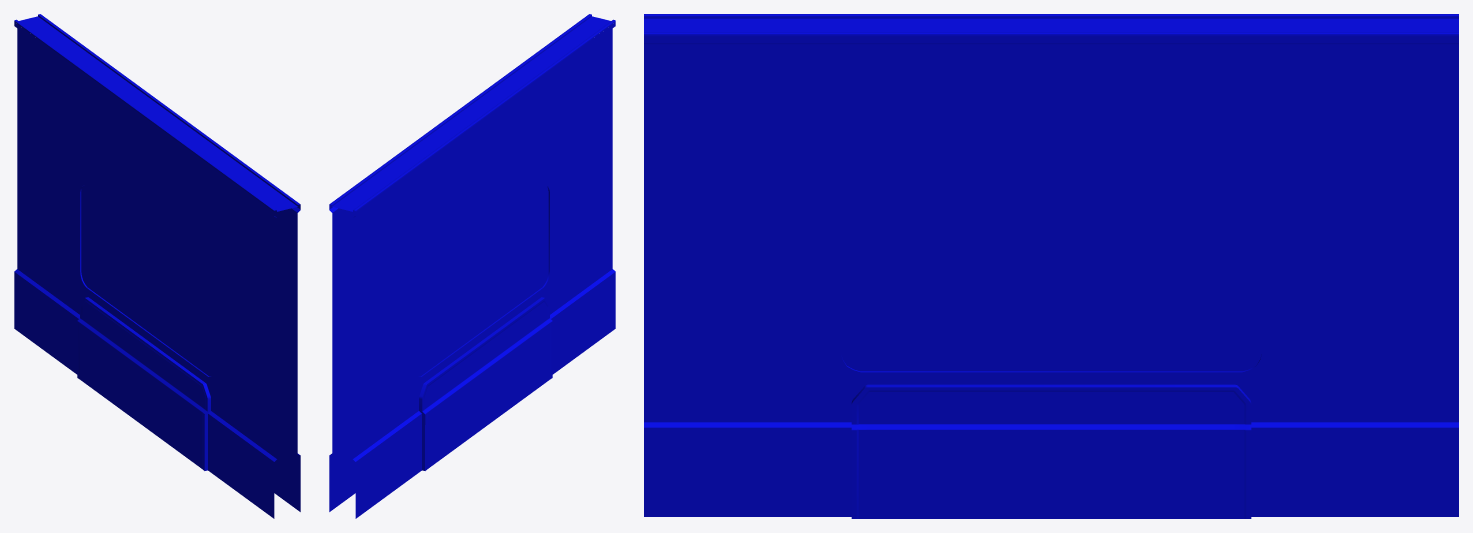
The model's file is Window_Wall.FBX.
The picture shows the model from 3 angles, left to right: view 1: azimuth 30°, elevation 25°; view 2: azimuth 150°, elevation 25°; view 3: azimuth 270°, elevation 25°; orthographic projection. The views are drawn at different scales.
Visible parts, largest first — view 1: Wall_Window; view 2: Wall_Window; view 3: Wall_Window.
Boxes of the visible parts, x1,y1,x2,y2 form: Wall_Window: (14,14,300,518); Wall_Window: (329,14,615,518); Wall_Window: (644,14,1458,518).
Size of the model in its own units: 14.31 by 129 by 197.
